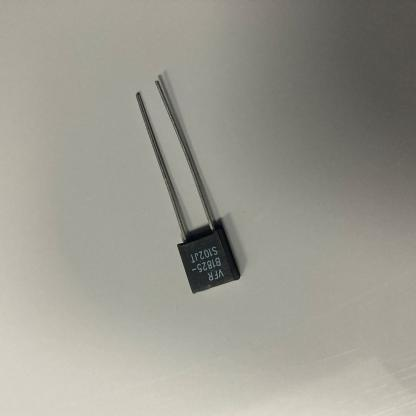SP0000007: (97, 29, 286, 345)
